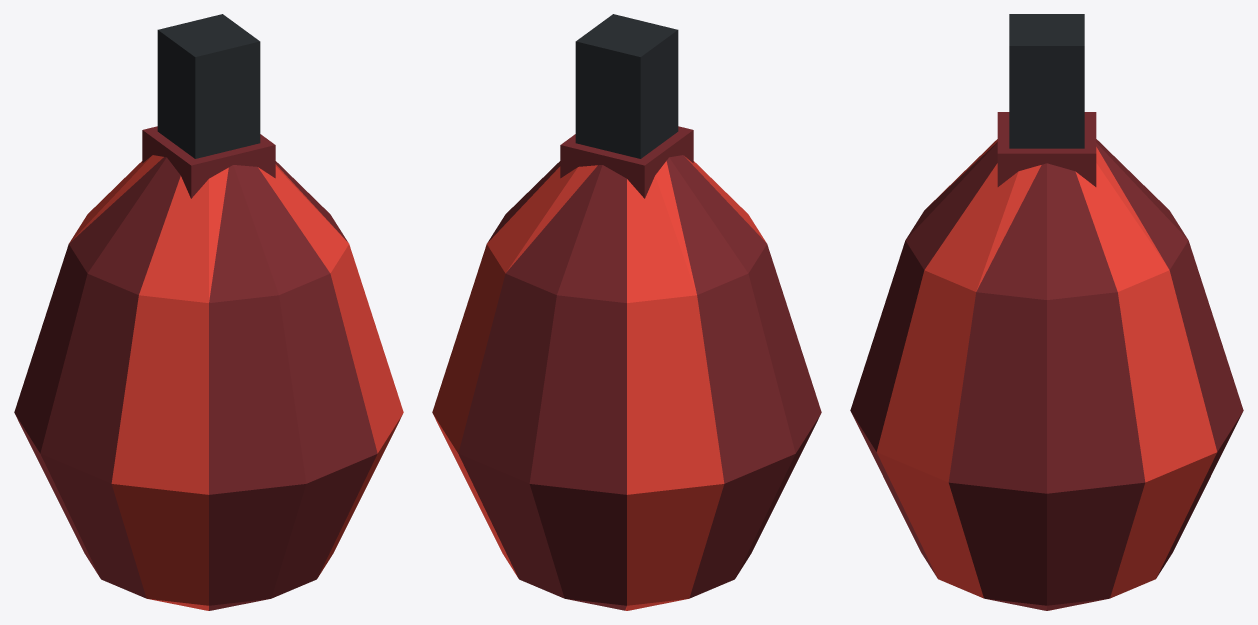
Rendered from machine-arm.glb.
3 views of the same model, side by side, from view 1: azimuth 30°, elevation 25°; view 2: azimuth 150°, elevation 25°; view 3: azimuth 270°, elevation 25° (orthographic).
Visible parts, largest first — view 1: PunchBall_DarkFacets, PunchBall_RedFacets, PunchArm_Upper, PunchArm_Collar; view 2: PunchBall_DarkFacets, PunchBall_RedFacets, PunchArm_Upper, PunchArm_Collar; view 3: PunchBall_DarkFacets, PunchBall_RedFacets, PunchArm_Upper, PunchArm_Collar.
Part boxes in pixels (<box>): PunchBall_DarkFacets: <box>14,157,377,610</box>; PunchBall_RedFacets: <box>69,155,403,610</box>; PunchArm_Upper: <box>157,14,260,158</box>; PunchArm_Collar: <box>142,126,275,198</box>; PunchBall_DarkFacets: <box>458,155,821,610</box>; PunchBall_RedFacets: <box>432,156,766,610</box>; PunchArm_Upper: <box>575,14,678,158</box>; PunchArm_Collar: <box>560,126,693,198</box>; PunchBall_DarkFacets: <box>850,139,1243,610</box>; PunchBall_RedFacets: <box>876,139,1217,610</box>; PunchArm_Upper: <box>1009,14,1084,148</box>; PunchArm_Collar: <box>997,112,1096,186</box>.
Size of the model in its own units: 0.52 by 0.845 by 0.52.
